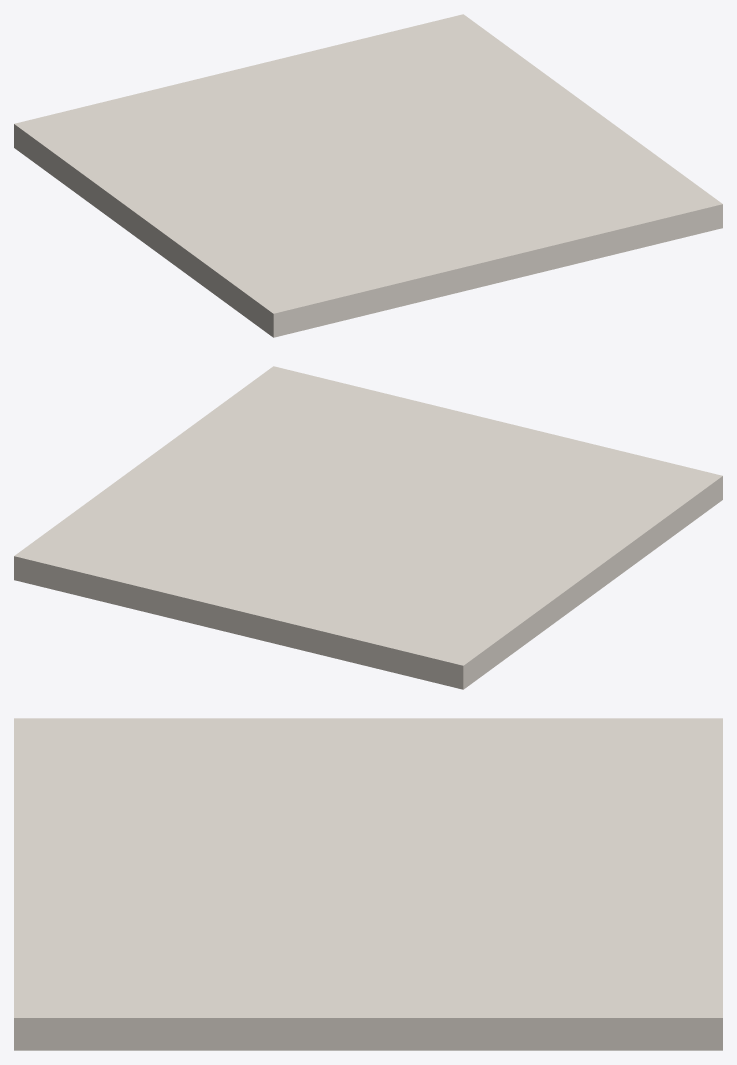
Rendered from ceiling_panel.glb.
The picture shows the model from 3 angles, top to bottom: view 1: azimuth 30°, elevation 25°; view 2: azimuth 150°, elevation 25°; view 3: azimuth 270°, elevation 25°; orthographic projection. The views are drawn at different scales.
Visible parts, largest first — view 1: ceiling_panel; view 2: ceiling_panel; view 3: ceiling_panel.
Boxes of the visible parts, x1,y1,x2,y2 form: ceiling_panel: (14,14,722,337); ceiling_panel: (14,366,722,689); ceiling_panel: (14,718,722,1050).
Bounding box in the file's own units: 0.98 × 0.06 × 0.98.
1 material, 1 textured.
